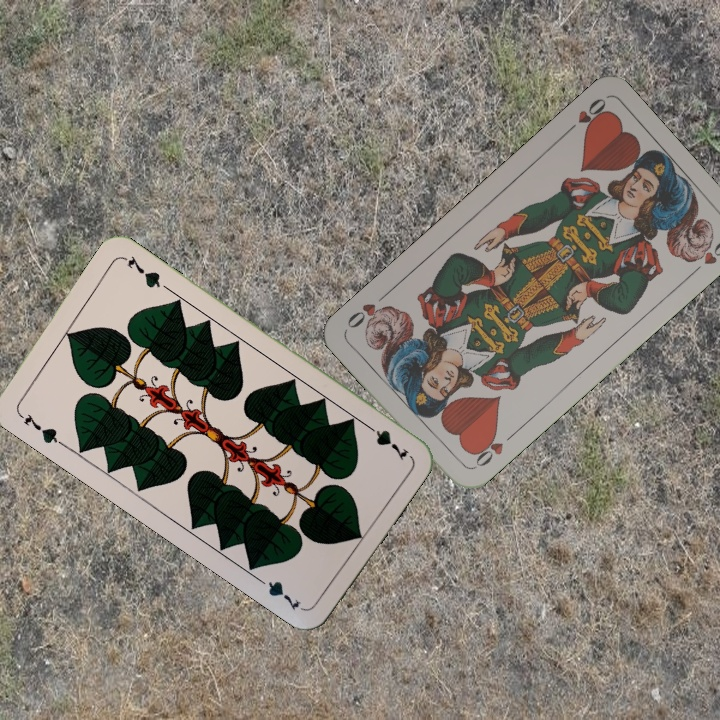G7: (359, 418, 412, 463), (14, 408, 66, 448)
HO: (559, 94, 611, 138), (467, 428, 517, 472)
